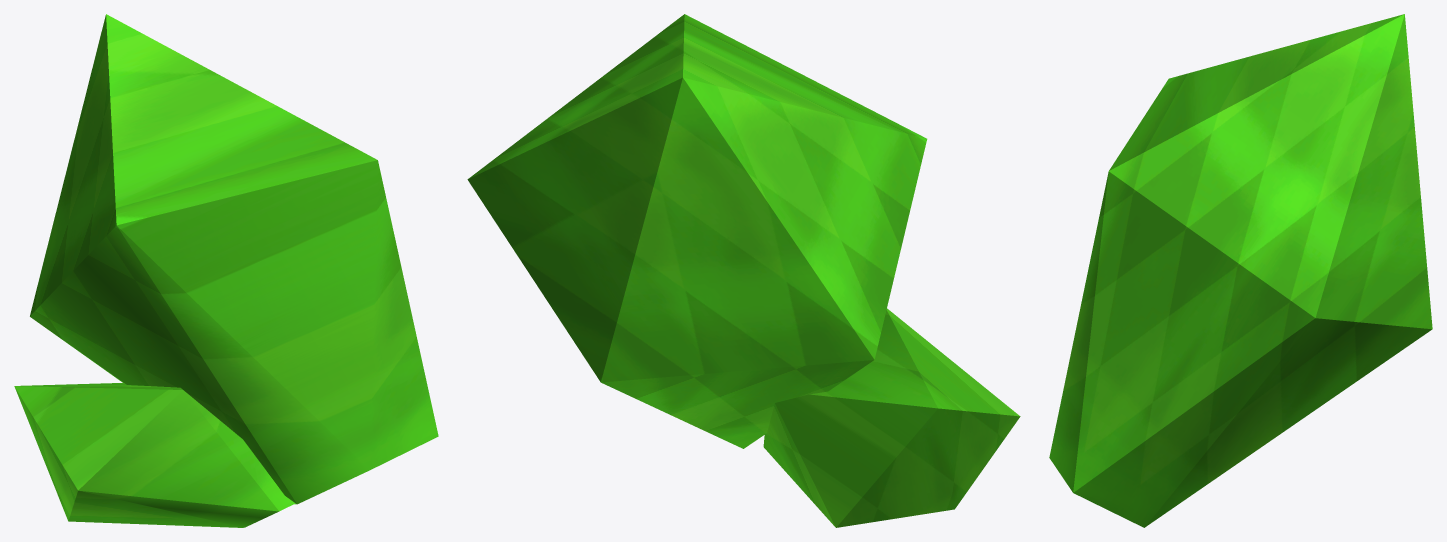
File: CopperOre.fbx
3 views of the same model, side by side, from view 1: azimuth 30°, elevation 25°; view 2: azimuth 150°, elevation 25°; view 3: azimuth 270°, elevation 25° (orthographic). The views are drawn at different scales.
Visible parts, largest first — view 1: Rock; view 2: Rock; view 3: Rock.
Boxes of the visible parts, x1,y1,x2,y2 form: Rock: (14,14,438,527); Rock: (467,14,1020,527); Rock: (1049,14,1432,527).
Size of the model in its own units: 0.5881 by 0.6292 by 0.4725.
